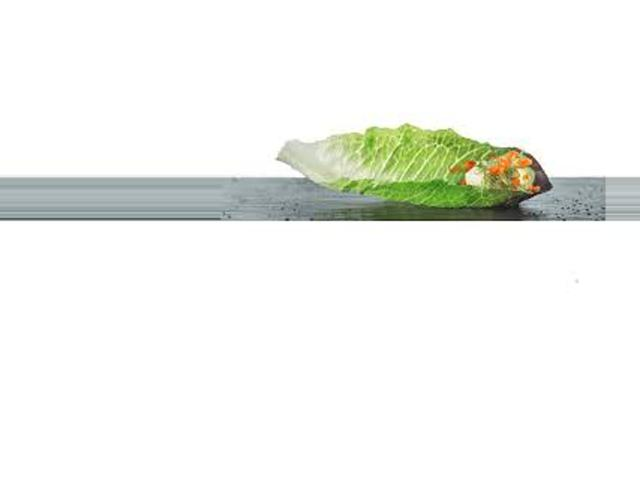lettuce: (271, 114, 561, 221)
